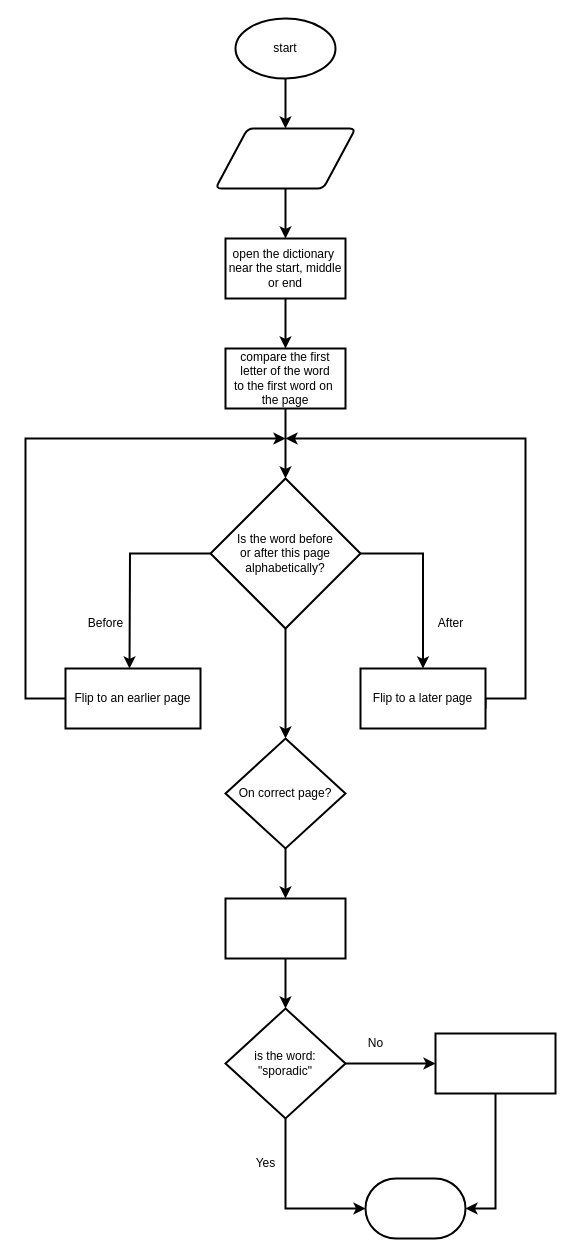
This 573x1256 diagram has some shape labels left out. The centre of each missing label's shape, as x and y in pixels:
input choose the word: "sporadic": the point at 285,158
Scan down the page until you find the word: the point at 285,928
stop: the point at 415,1208
Word may not be in the dictionary: the point at 495,1063
